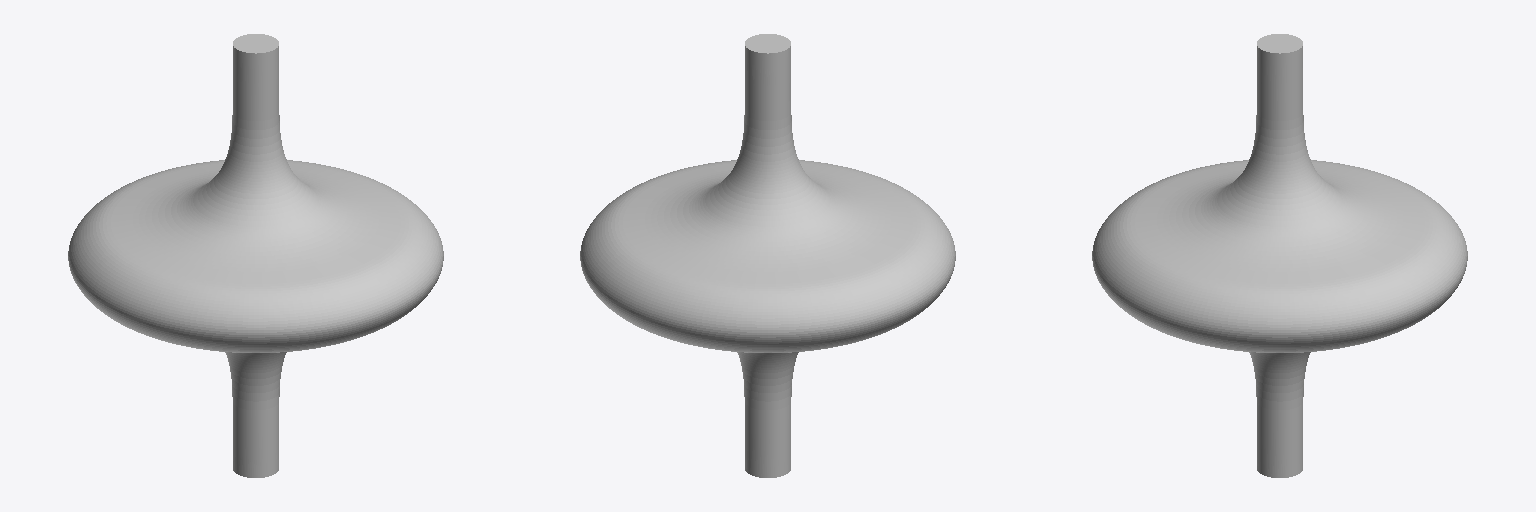
Rendered from 190708_Ether_100type_drop6.obj.
3 views of the same model, side by side, from view 1: azimuth 30°, elevation 25°; view 2: azimuth 150°, elevation 25°; view 3: azimuth 270°, elevation 25° (orthographic).
Visible parts, largest first — view 1: object_1; view 2: object_1; view 3: object_1.
Part boxes in pixels (left/top/right/bottom): object_1: left=68, top=34, right=443, bottom=477; object_1: left=580, top=34, right=955, bottom=477; object_1: left=1092, top=34, right=1467, bottom=477.
Bounding box in the file's own units: 80.13 × 100 × 80.13.